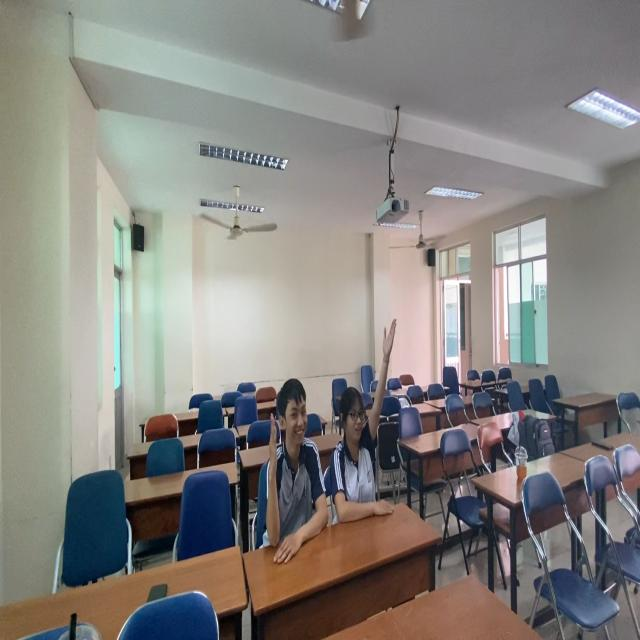raise_hand: (341, 319, 400, 521), (261, 370, 322, 533)
